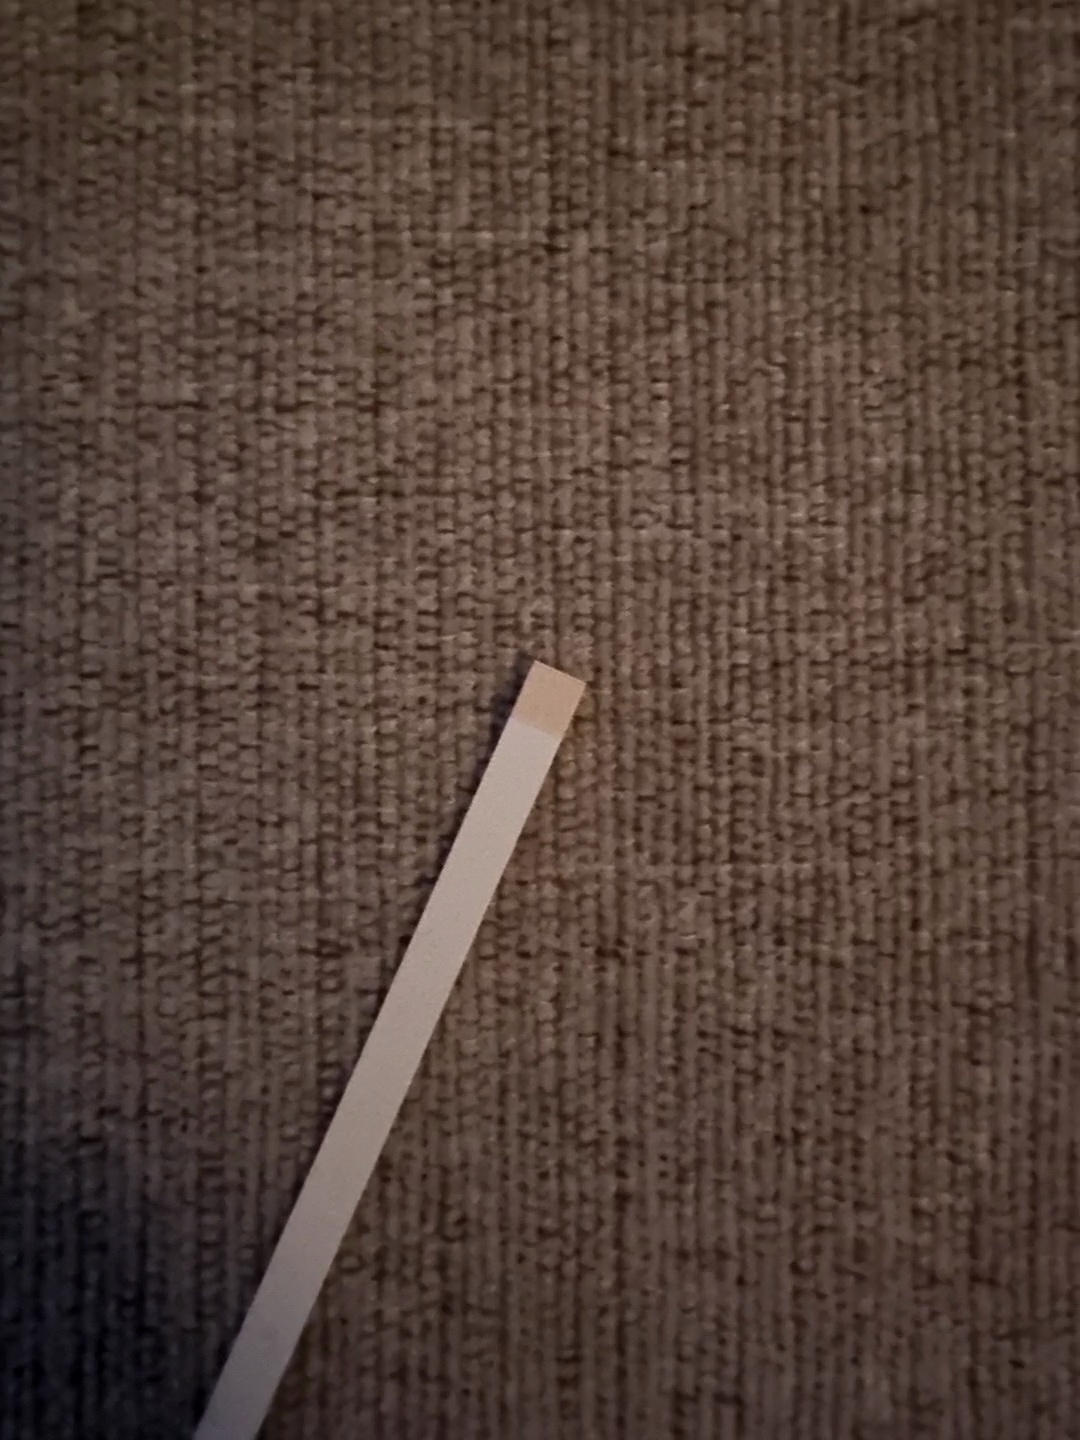keto-tip: (505, 657, 588, 742)
